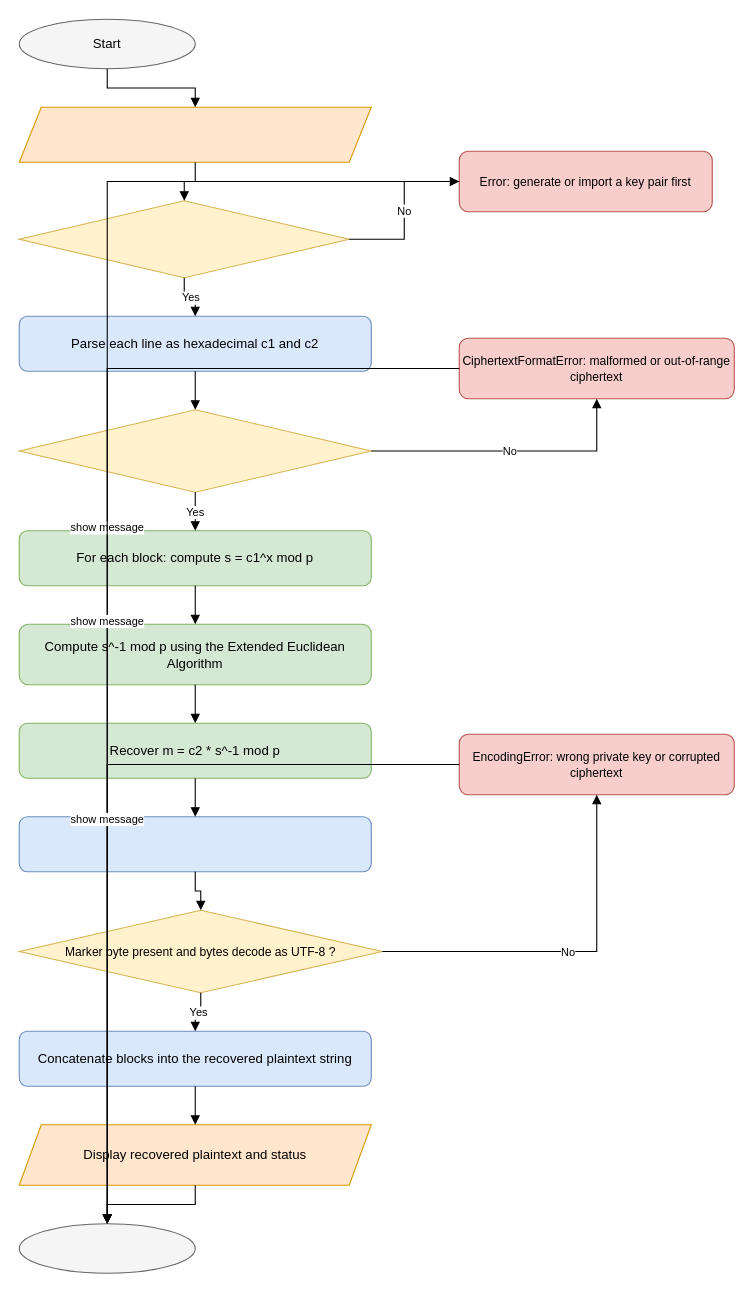
Image size: 754x1293. Some labels were removed from this diagram. Each missing label, with the centre of its shape:
Convert m to bytes and remove the 0x01 marker byte: [194,844]
End: [106,1248]
Format valid and 1 <= c1, c2 <= p - 1 ?: [194,450]
Private key available?: [183,239]
Read ciphertext from the interface: [194,134]
